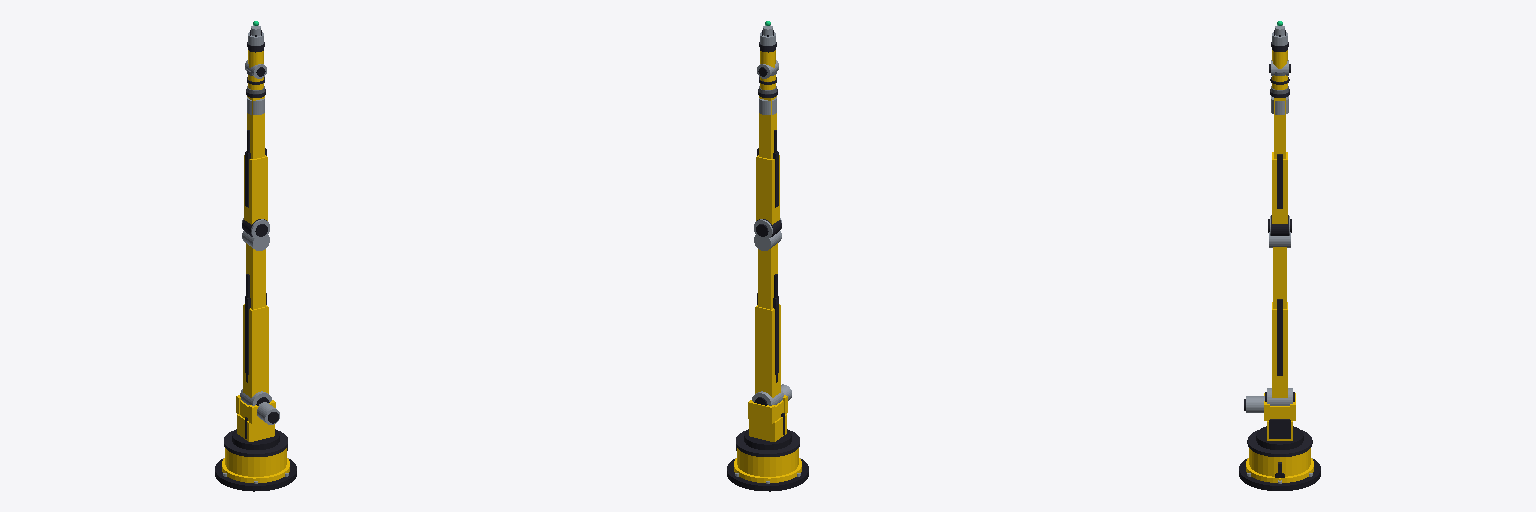
The robot description file, URDF, robot "fanuc_m710ic_50":
<?xml version="1.0" encoding="utf-8"?>
<robot name="fanuc_m710ic_50">
  <!-- FANUC M-710iC/50 — procedurally generated by orolp.robot_library.urdf_builder (payload 50 kg, reach 2050 mm, 6 DOF, repeatability ±0.07 mm). Appearance: 60 primitives in 'industrial' style (primary/accent/metal/dark 4-role palette). No vendor CAD assets. Parameters verified=False. -->
  <link name="base_link">
    <visual>
      <origin xyz="0 0 0.01476" rpy="0 0 0"/>
      <geometry>
        <cylinder radius="0.203323" length="0.02952"/>
      </geometry>
      <material name="base_link_mat_0">
        <color rgba="0.153 0.153 0.187 1"/>
      </material>
    </visual>
    <visual>
      <origin xyz="0 0 0.042435" rpy="0 0 0"/>
      <geometry>
        <cylinder radius="0.169941" length="0.02583"/>
      </geometry>
      <material name="base_link_mat_1">
        <color rgba="0.99 0.8 0.05 1"/>
      </material>
    </visual>
    <visual>
      <origin xyz="0 0 0.112545" rpy="0 0 0"/>
      <geometry>
        <cylinder radius="0.151733" length="0.11439"/>
      </geometry>
      <material name="base_link_mat_2">
        <color rgba="0.99 0.8 0.05 1"/>
      </material>
    </visual>
    <visual>
      <origin xyz="0 0 0.175275" rpy="0 0 0"/>
      <geometry>
        <cylinder radius="0.160837" length="0.01845"/>
      </geometry>
      <material name="base_link_mat_3">
        <color rgba="0.18 0.18 0.22 1"/>
      </material>
    </visual>
    <visual>
      <origin xyz="0.13656 0 0.11439" rpy="0 0 0"/>
      <geometry>
        <box size="0.078901 0.018208 0.04797"/>
      </geometry>
      <material name="base_link_mat_4">
        <color rgba="0.18 0.18 0.22 1"/>
      </material>
    </visual>
    <visual>
      <origin xyz="0.139595 0 0.05535" rpy="0 1.570796 0"/>
      <geometry>
        <cylinder radius="0.025795" length="0.04552"/>
      </geometry>
      <material name="base_link_mat_5">
        <color rgba="0.153 0.153 0.187 1"/>
      </material>
    </visual>
    <visual>
      <origin xyz="0.172976 0 0.023985" rpy="0 0 0"/>
      <geometry>
        <cylinder radius="0.01138" length="0.04059"/>
      </geometry>
      <material name="base_link_mat_6">
        <color rgba="0.6 0.63 0.67 1"/>
      </material>
    </visual>
    <visual>
      <origin xyz="0.086488 0.149802 0.023985" rpy="0 0 0"/>
      <geometry>
        <cylinder radius="0.01138" length="0.04059"/>
      </geometry>
      <material name="base_link_mat_7">
        <color rgba="0.6 0.63 0.67 1"/>
      </material>
    </visual>
    <visual>
      <origin xyz="-0.086488 0.149802 0.023985" rpy="0 0 0"/>
      <geometry>
        <cylinder radius="0.01138" length="0.04059"/>
      </geometry>
      <material name="base_link_mat_8">
        <color rgba="0.6 0.63 0.67 1"/>
      </material>
    </visual>
    <visual>
      <origin xyz="-0.172976 0 0.023985" rpy="0 0 0"/>
      <geometry>
        <cylinder radius="0.01138" length="0.04059"/>
      </geometry>
      <material name="base_link_mat_9">
        <color rgba="0.6 0.63 0.67 1"/>
      </material>
    </visual>
    <visual>
      <origin xyz="-0.086488 -0.149802 0.023985" rpy="0 0 0"/>
      <geometry>
        <cylinder radius="0.01138" length="0.04059"/>
      </geometry>
      <material name="base_link_mat_10">
        <color rgba="0.6 0.63 0.67 1"/>
      </material>
    </visual>
    <visual>
      <origin xyz="0.086488 -0.149802 0.023985" rpy="0 0 0"/>
      <geometry>
        <cylinder radius="0.01138" length="0.04059"/>
      </geometry>
      <material name="base_link_mat_11">
        <color rgba="0.6 0.63 0.67 1"/>
      </material>
    </visual>
    <collision>
      <origin xyz="0 0 0.09225" rpy="0 0 0"/>
      <geometry>
        <cylinder radius="0.151733" length="0.1845"/>
      </geometry>
    </collision>
  </link>
  <joint name="joint_1" type="revolute">
    <parent link="base_link"/>
    <child link="link_1"/>
    <origin xyz="0 0 0.1845" rpy="0 0 0"/>
    <axis xyz="0 0 1"/>
    <limit lower="-3.228859" upper="3.228859" effort="340" velocity="3.054326"/>
  </joint>
  <link name="link_1">
    <visual>
      <origin xyz="0 0 0.015663" rpy="0 0 0"/>
      <geometry>
        <cylinder radius="0.117471" length="0.031326"/>
      </geometry>
      <material name="link_1_mat_0">
        <color rgba="0.153 0.153 0.187 1"/>
      </material>
    </visual>
    <visual>
      <origin xyz="0 0 0.083191" rpy="0 0 0"/>
      <geometry>
        <box size="0.148796 0.12726 0.10373"/>
      </geometry>
      <material name="link_1_mat_1">
        <color rgba="0.99 0.8 0.05 1"/>
      </material>
    </visual>
    <visual>
      <origin xyz="0 0 0.173391" rpy="0 0 0"/>
      <geometry>
        <box size="0.131176 0.109639 0.07667"/>
      </geometry>
      <material name="link_1_mat_2">
        <color rgba="0.99 0.8 0.05 1"/>
      </material>
    </visual>
    <visual>
      <origin xyz="0 0.064609 0.1804" rpy="0 0 0"/>
      <geometry>
        <box size="0.137049 0.033283 0.0902"/>
      </geometry>
      <material name="link_1_mat_3">
        <color rgba="0.99 0.8 0.05 1"/>
      </material>
    </visual>
    <visual>
      <origin xyz="0 -0.064609 0.1804" rpy="0 0 0"/>
      <geometry>
        <box size="0.137049 0.033283 0.0902"/>
      </geometry>
      <material name="link_1_mat_4">
        <color rgba="0.99 0.8 0.05 1"/>
      </material>
    </visual>
    <visual>
      <origin xyz="0 -0.115513 0.19393" rpy="1.570796 0 0"/>
      <geometry>
        <cylinder radius="0.043073" length="0.102787"/>
      </geometry>
      <material name="link_1_mat_5">
        <color rgba="0.6 0.63 0.67 1"/>
      </material>
    </visual>
    <visual>
      <origin xyz="0 -0.172291 0.19393" rpy="1.570796 0 0"/>
      <geometry>
        <cylinder radius="0.029368" length="0.015663"/>
      </geometry>
      <material name="link_1_mat_6">
        <color rgba="0.153 0.153 0.187 1"/>
      </material>
    </visual>
    <visual>
      <origin xyz="-0.068525 -0.02741 0.09471" rpy="0 0 0"/>
      <geometry>
        <cylinder radius="0.010768" length="0.11275"/>
      </geometry>
      <material name="link_1_mat_7">
        <color rgba="0.153 0.153 0.187 1"/>
      </material>
    </visual>
    <visual>
      <origin xyz="0.070483 0 0.09471" rpy="0 0 0"/>
      <geometry>
        <box size="0.009789 0.113555 0.09922"/>
      </geometry>
      <material name="link_1_mat_8">
        <color rgba="0.18 0.18 0.22 1"/>
      </material>
    </visual>
    <collision>
      <origin xyz="0 0 0.11275" rpy="0 0 0"/>
      <geometry>
        <cylinder radius="0.117471" length="0.2255"/>
      </geometry>
    </collision>
  </link>
  <joint name="joint_2" type="revolute">
    <parent link="link_1"/>
    <child link="link_2"/>
    <origin xyz="0 0 0.2255" rpy="0 0 0"/>
    <axis xyz="0 1 0"/>
    <limit lower="-2.443461" upper="2.443461" effort="340" velocity="3.054326"/>
  </joint>
  <link name="link_2">
    <visual>
      <origin xyz="0 0 0.25461" rpy="0 0 0"/>
      <geometry>
        <box size="0.095935 0.08223 0.50922"/>
      </geometry>
      <material name="link_2_mat_0">
        <color rgba="0.99 0.8 0.05 1"/>
      </material>
    </visual>
    <visual>
      <origin xyz="0 0 0.70725" rpy="0 0 0"/>
      <geometry>
        <box size="0.078314 0.066567 0.4715"/>
      </geometry>
      <material name="link_2_mat_1">
        <color rgba="0.99 0.8 0.05 1"/>
      </material>
    </visual>
    <visual>
      <origin xyz="0 0 0.35834" rpy="0 0 0"/>
      <geometry>
        <box size="0.113555 0.029368 0.41492"/>
      </geometry>
      <material name="link_2_mat_2">
        <color rgba="0.18 0.18 0.22 1"/>
      </material>
    </visual>
    <visual>
      <origin xyz="0 0 0" rpy="1.570796 0 0"/>
      <geometry>
        <cylinder radius="0.056778" length="0.125302"/>
      </geometry>
      <material name="link_2_mat_3">
        <color rgba="0.6 0.63 0.67 1"/>
      </material>
    </visual>
    <visual>
      <origin xyz="0 0.068525 0" rpy="1.570796 0 0"/>
      <geometry>
        <cylinder radius="0.035241" length="0.009789"/>
      </geometry>
      <material name="link_2_mat_4">
        <color rgba="0.153 0.153 0.187 1"/>
      </material>
    </visual>
    <visual>
      <origin xyz="0 -0.068525 0" rpy="1.570796 0 0"/>
      <geometry>
        <cylinder radius="0.035241" length="0.009789"/>
      </geometry>
      <material name="link_2_mat_5">
        <color rgba="0.153 0.153 0.187 1"/>
      </material>
    </visual>
    <visual>
      <origin xyz="0 0 -0.067896" rpy="0 0 0"/>
      <geometry>
        <box size="0.105724 0.088103 0.14145"/>
      </geometry>
      <material name="link_2_mat_6">
        <color rgba="0.153 0.153 0.187 1"/>
      </material>
    </visual>
    <visual>
      <origin xyz="0 0 -0.143336" rpy="0 0 0"/>
      <geometry>
        <cylinder radius="0.056778" length="0.03772"/>
      </geometry>
      <material name="link_2_mat_7">
        <color rgba="0.153 0.153 0.187 1"/>
      </material>
    </visual>
    <visual>
      <origin xyz="0 0 0.87699" rpy="1.570796 0 0"/>
      <geometry>
        <cylinder radius="0.048946" length="0.107682"/>
      </geometry>
      <material name="link_2_mat_8">
        <color rgba="0.6 0.63 0.67 1"/>
      </material>
    </visual>
    <visual>
      <origin xyz="0 0 0.943" rpy="1.570796 0 0"/>
      <geometry>
        <cylinder radius="0.05482" length="0.084187"/>
      </geometry>
      <material name="link_2_mat_9">
        <color rgba="0.18 0.18 0.22 1"/>
      </material>
    </visual>
    <visual>
      <origin xyz="-0.045031 0 0.39606" rpy="0 0 0"/>
      <geometry>
        <cylinder radius="0.00881" length="0.58466"/>
      </geometry>
      <material name="link_2_mat_10">
        <color rgba="0.153 0.153 0.187 1"/>
      </material>
    </visual>
    <collision>
      <origin xyz="0 0 0.4715" rpy="0 0 0"/>
      <geometry>
        <box size="0.097892 0.080272 0.943"/>
      </geometry>
    </collision>
  </link>
  <joint name="joint_3" type="revolute">
    <parent link="link_2"/>
    <child link="link_3"/>
    <origin xyz="0 0 0.943" rpy="0 0 0"/>
    <axis xyz="0 1 0"/>
    <limit lower="-2.792527" upper="2.792527" effort="340" velocity="3.054326"/>
  </joint>
  <link name="link_3">
    <visual>
      <origin xyz="0 0 0.19188" rpy="0 0 0"/>
      <geometry>
        <box size="0.090061 0.076356 0.38376"/>
      </geometry>
      <material name="link_3_mat_0">
        <color rgba="0.99 0.8 0.05 1"/>
      </material>
    </visual>
    <visual>
      <origin xyz="0 0 0.54612" rpy="0 0 0"/>
      <geometry>
        <box size="0.07244 0.060693 0.38376"/>
      </geometry>
      <material name="link_3_mat_1">
        <color rgba="0.99 0.8 0.05 1"/>
      </material>
    </visual>
    <visual>
      <origin xyz="0 0 0" rpy="1.570796 0 0"/>
      <geometry>
        <cylinder radius="0.052862" length="0.103766"/>
      </geometry>
      <material name="link_3_mat_2">
        <color rgba="0.6 0.63 0.67 1"/>
      </material>
    </visual>
    <visual>
      <origin xyz="0 0.056778 0" rpy="1.570796 0 0"/>
      <geometry>
        <cylinder radius="0.033283" length="0.009789"/>
      </geometry>
      <material name="link_3_mat_3">
        <color rgba="0.153 0.153 0.187 1"/>
      </material>
    </visual>
    <visual>
      <origin xyz="0 -0.056778 0" rpy="1.570796 0 0"/>
      <geometry>
        <cylinder radius="0.033283" length="0.009789"/>
      </geometry>
      <material name="link_3_mat_4">
        <color rgba="0.153 0.153 0.187 1"/>
      </material>
    </visual>
    <visual>
      <origin xyz="0 0 0.26568" rpy="0 0 0"/>
      <geometry>
        <box size="0.105724 0.02741 0.2952"/>
      </geometry>
      <material name="link_3_mat_5">
        <color rgba="0.18 0.18 0.22 1"/>
      </material>
    </visual>
    <visual>
      <origin xyz="0 0 0.6642" rpy="0 0 0"/>
      <geometry>
        <cylinder radius="0.045031" length="0.076356"/>
      </geometry>
      <material name="link_3_mat_6">
        <color rgba="0.6 0.63 0.67 1"/>
      </material>
    </visual>
    <visual>
      <origin xyz="0 0 0.73062" rpy="0 0 0"/>
      <geometry>
        <cylinder radius="0.048946" length="0.019578"/>
      </geometry>
      <material name="link_3_mat_7">
        <color rgba="0.18 0.18 0.22 1"/>
      </material>
    </visual>
    <visual>
      <origin xyz="-0.041115 0 0.32472" rpy="0 0 0"/>
      <geometry>
        <cylinder radius="0.007831" length="0.41328"/>
      </geometry>
      <material name="link_3_mat_8">
        <color rgba="0.153 0.153 0.187 1"/>
      </material>
    </visual>
    <collision>
      <origin xyz="0 0 0.369" rpy="0 0 0"/>
      <geometry>
        <box size="0.092019 0.075455 0.738"/>
      </geometry>
    </collision>
  </link>
  <joint name="joint_4" type="revolute">
    <parent link="link_3"/>
    <child link="link_4"/>
    <origin xyz="0 0 0.738" rpy="0 0 0"/>
    <axis xyz="0 0 1"/>
    <limit lower="-3.490659" upper="3.490659" effort="340" velocity="5.235988"/>
  </joint>
  <link name="link_4">
    <visual>
      <origin xyz="0 0 0.0615" rpy="0 0 0"/>
      <geometry>
        <cylinder radius="0.041115" length="0.11562"/>
      </geometry>
      <material name="link_4_mat_0">
        <color rgba="0.99 0.8 0.05 1"/>
      </material>
    </visual>
    <visual>
      <origin xyz="0 0 0.0123" rpy="0 0 0"/>
      <geometry>
        <cylinder radius="0.045031" length="0.01968"/>
      </geometry>
      <material name="link_4_mat_1">
        <color rgba="0.432 0.4536 0.4824 1"/>
      </material>
    </visual>
    <visual>
      <origin xyz="0 0 0.1107" rpy="0 0 0"/>
      <geometry>
        <cylinder radius="0.045031" length="0.01968"/>
      </geometry>
      <material name="link_4_mat_2">
        <color rgba="0.432 0.4536 0.4824 1"/>
      </material>
    </visual>
    <visual>
      <origin xyz="0 0 0.0615" rpy="0 0 0"/>
      <geometry>
        <cylinder radius="0.046988" length="0.0123"/>
      </geometry>
      <material name="link_4_mat_3">
        <color rgba="0.18 0.18 0.22 1"/>
      </material>
    </visual>
    <collision>
      <origin xyz="0 0 0.0615" rpy="0 0 0"/>
      <geometry>
        <cylinder radius="0.043073" length="0.123"/>
      </geometry>
    </collision>
  </link>
  <joint name="joint_5" type="revolute">
    <parent link="link_4"/>
    <child link="link_5"/>
    <origin xyz="0 0 0.123" rpy="0 0 0"/>
    <axis xyz="0 1 0"/>
    <limit lower="-2.443461" upper="2.443461" effort="340" velocity="5.235988"/>
  </joint>
  <link name="link_5">
    <visual>
      <origin xyz="0 0 0" rpy="1.570796 0 0"/>
      <geometry>
        <cylinder radius="0.039157" length="0.090061"/>
      </geometry>
      <material name="link_5_mat_0">
        <color rgba="0.6 0.63 0.67 1"/>
      </material>
    </visual>
    <visual>
      <origin xyz="0 0 0.05535" rpy="0 0 0"/>
      <geometry>
        <cylinder radius="0.037199" length="0.10578"/>
      </geometry>
      <material name="link_5_mat_1">
        <color rgba="0.99 0.8 0.05 1"/>
      </material>
    </visual>
    <visual>
      <origin xyz="0 0 0.11562" rpy="0 0 0"/>
      <geometry>
        <cylinder radius="0.041115" length="0.01968"/>
      </geometry>
      <material name="link_5_mat_2">
        <color rgba="0.18 0.18 0.22 1"/>
      </material>
    </visual>
    <visual>
      <origin xyz="0 0.048946 0" rpy="1.570796 0 0"/>
      <geometry>
        <cylinder radius="0.023494" length="0.009789"/>
      </geometry>
      <material name="link_5_mat_3">
        <color rgba="0.153 0.153 0.187 1"/>
      </material>
    </visual>
    <visual>
      <origin xyz="0 -0.048946 0" rpy="1.570796 0 0"/>
      <geometry>
        <cylinder radius="0.023494" length="0.009789"/>
      </geometry>
      <material name="link_5_mat_4">
        <color rgba="0.153 0.153 0.187 1"/>
      </material>
    </visual>
    <collision>
      <origin xyz="0 0 0.0615" rpy="0 0 0"/>
      <geometry>
        <box size="0.083209 0.068231 0.123"/>
      </geometry>
    </collision>
  </link>
  <joint name="joint_6" type="revolute">
    <parent link="link_5"/>
    <child link="tool0"/>
    <origin xyz="0 0 0.123" rpy="0 0 0"/>
    <axis xyz="0 0 1"/>
    <limit lower="-6.283185" upper="6.283185" effort="340" velocity="7.853982"/>
  </joint>
  <link name="tool0">
    <visual>
      <origin xyz="0 0 0.03198" rpy="0 0 0"/>
      <geometry>
        <cylinder radius="0.041115" length="0.06396"/>
      </geometry>
      <material name="tool0_mat_0">
        <color rgba="0.6 0.63 0.67 1"/>
      </material>
    </visual>
    <visual>
      <origin xyz="0 0 0.08241" rpy="0 0 0"/>
      <geometry>
        <cylinder radius="0.025491" length="0.0369"/>
      </geometry>
      <material name="tool0_mat_1">
        <color rgba="0.6 0.63 0.67 1"/>
      </material>
    </visual>
    <visual>
      <origin xyz="0 0 0.00861" rpy="0 0 0"/>
      <geometry>
        <cylinder radius="0.043582" length="0.01722"/>
      </geometry>
      <material name="tool0_mat_2">
        <color rgba="0.18 0.18 0.22 1"/>
      </material>
    </visual>
    <visual>
      <origin xyz="0.03207 0 0.0615" rpy="0 0 0"/>
      <geometry>
        <cylinder radius="0.0037" length="0.02706"/>
      </geometry>
      <material name="tool0_mat_3">
        <color rgba="0.153 0.153 0.187 1"/>
      </material>
    </visual>
    <visual>
      <origin xyz="0.016035 0.027773 0.0615" rpy="0 0 0"/>
      <geometry>
        <cylinder radius="0.0037" length="0.02706"/>
      </geometry>
      <material name="tool0_mat_4">
        <color rgba="0.153 0.153 0.187 1"/>
      </material>
    </visual>
    <visual>
      <origin xyz="-0.016035 0.027773 0.0615" rpy="0 0 0"/>
      <geometry>
        <cylinder radius="0.0037" length="0.02706"/>
      </geometry>
      <material name="tool0_mat_5">
        <color rgba="0.153 0.153 0.187 1"/>
      </material>
    </visual>
    <visual>
      <origin xyz="-0.03207 0 0.0615" rpy="0 0 0"/>
      <geometry>
        <cylinder radius="0.0037" length="0.02706"/>
      </geometry>
      <material name="tool0_mat_6">
        <color rgba="0.153 0.153 0.187 1"/>
      </material>
    </visual>
    <visual>
      <origin xyz="-0.016035 -0.027773 0.0615" rpy="0 0 0"/>
      <geometry>
        <cylinder radius="0.0037" length="0.02706"/>
      </geometry>
      <material name="tool0_mat_7">
        <color rgba="0.153 0.153 0.187 1"/>
      </material>
    </visual>
    <visual>
      <origin xyz="0.016035 -0.027773 0.0615" rpy="0 0 0"/>
      <geometry>
        <cylinder radius="0.0037" length="0.02706"/>
      </geometry>
      <material name="tool0_mat_8">
        <color rgba="0.153 0.153 0.187 1"/>
      </material>
    </visual>
    <collision>
      <origin xyz="0 0 0.0615" rpy="0 0 0"/>
      <geometry>
        <cylinder radius="0.041115" length="0.123"/>
      </geometry>
    </collision>
  </link>
  <link name="tcp">
    <visual>
      <origin xyz="0 0 0" rpy="0 0 0"/>
      <geometry>
        <sphere radius="0.013979"/>
      </geometry>
      <material name="tcp_mat">
        <color rgba="0.15 0.85 0.55 1"/>
      </material>
    </visual>
  </link>
  <joint name="tcp_joint" type="fixed">
    <parent link="tool0"/>
    <child link="tcp"/>
    <origin xyz="0 0 0.123" rpy="0 0 0"/>
  </joint>
</robot>

--- Facts derived from the render (not from the file) ---
Views: 3 orthographic renders of the robot side by side, from view 1: azimuth 30°, elevation 25°; view 2: azimuth 150°, elevation 25°; view 3: azimuth 270°, elevation 25°.
Robot: fanuc_m710ic_50 — 8 links, 7 joints (6 revolute, 1 fixed); root link base_link; default pose: all joints at 0.
Visible links, largest first — view 1: link_2, base_link, link_3, link_1; view 2: link_2, base_link, link_3, link_1; view 3: base_link, link_2, link_3, link_1.
Boxes of the visible links, bbox=[...] form: link_2: bbox=[240, 219, 271, 405]; base_link: bbox=[215, 431, 296, 491]; link_3: bbox=[242, 89, 269, 237]; link_1: bbox=[232, 395, 279, 449]; link_2: bbox=[752, 219, 783, 405]; base_link: bbox=[727, 431, 808, 491]; link_3: bbox=[754, 89, 781, 237]; link_1: bbox=[744, 384, 791, 449]; base_link: bbox=[1239, 430, 1320, 490]; link_2: bbox=[1265, 215, 1294, 405]; link_3: bbox=[1268, 89, 1291, 235]; link_1: bbox=[1244, 393, 1303, 449].
Bounding box of the posed robot: 0.4066 × 0.4066 × 2.47 m (x, y, z).
Geometry: primitives only (box / cylinder / sphere), no mesh files.
